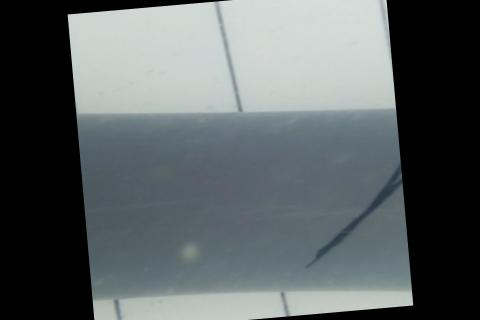keretakan: (290, 148, 410, 271)
